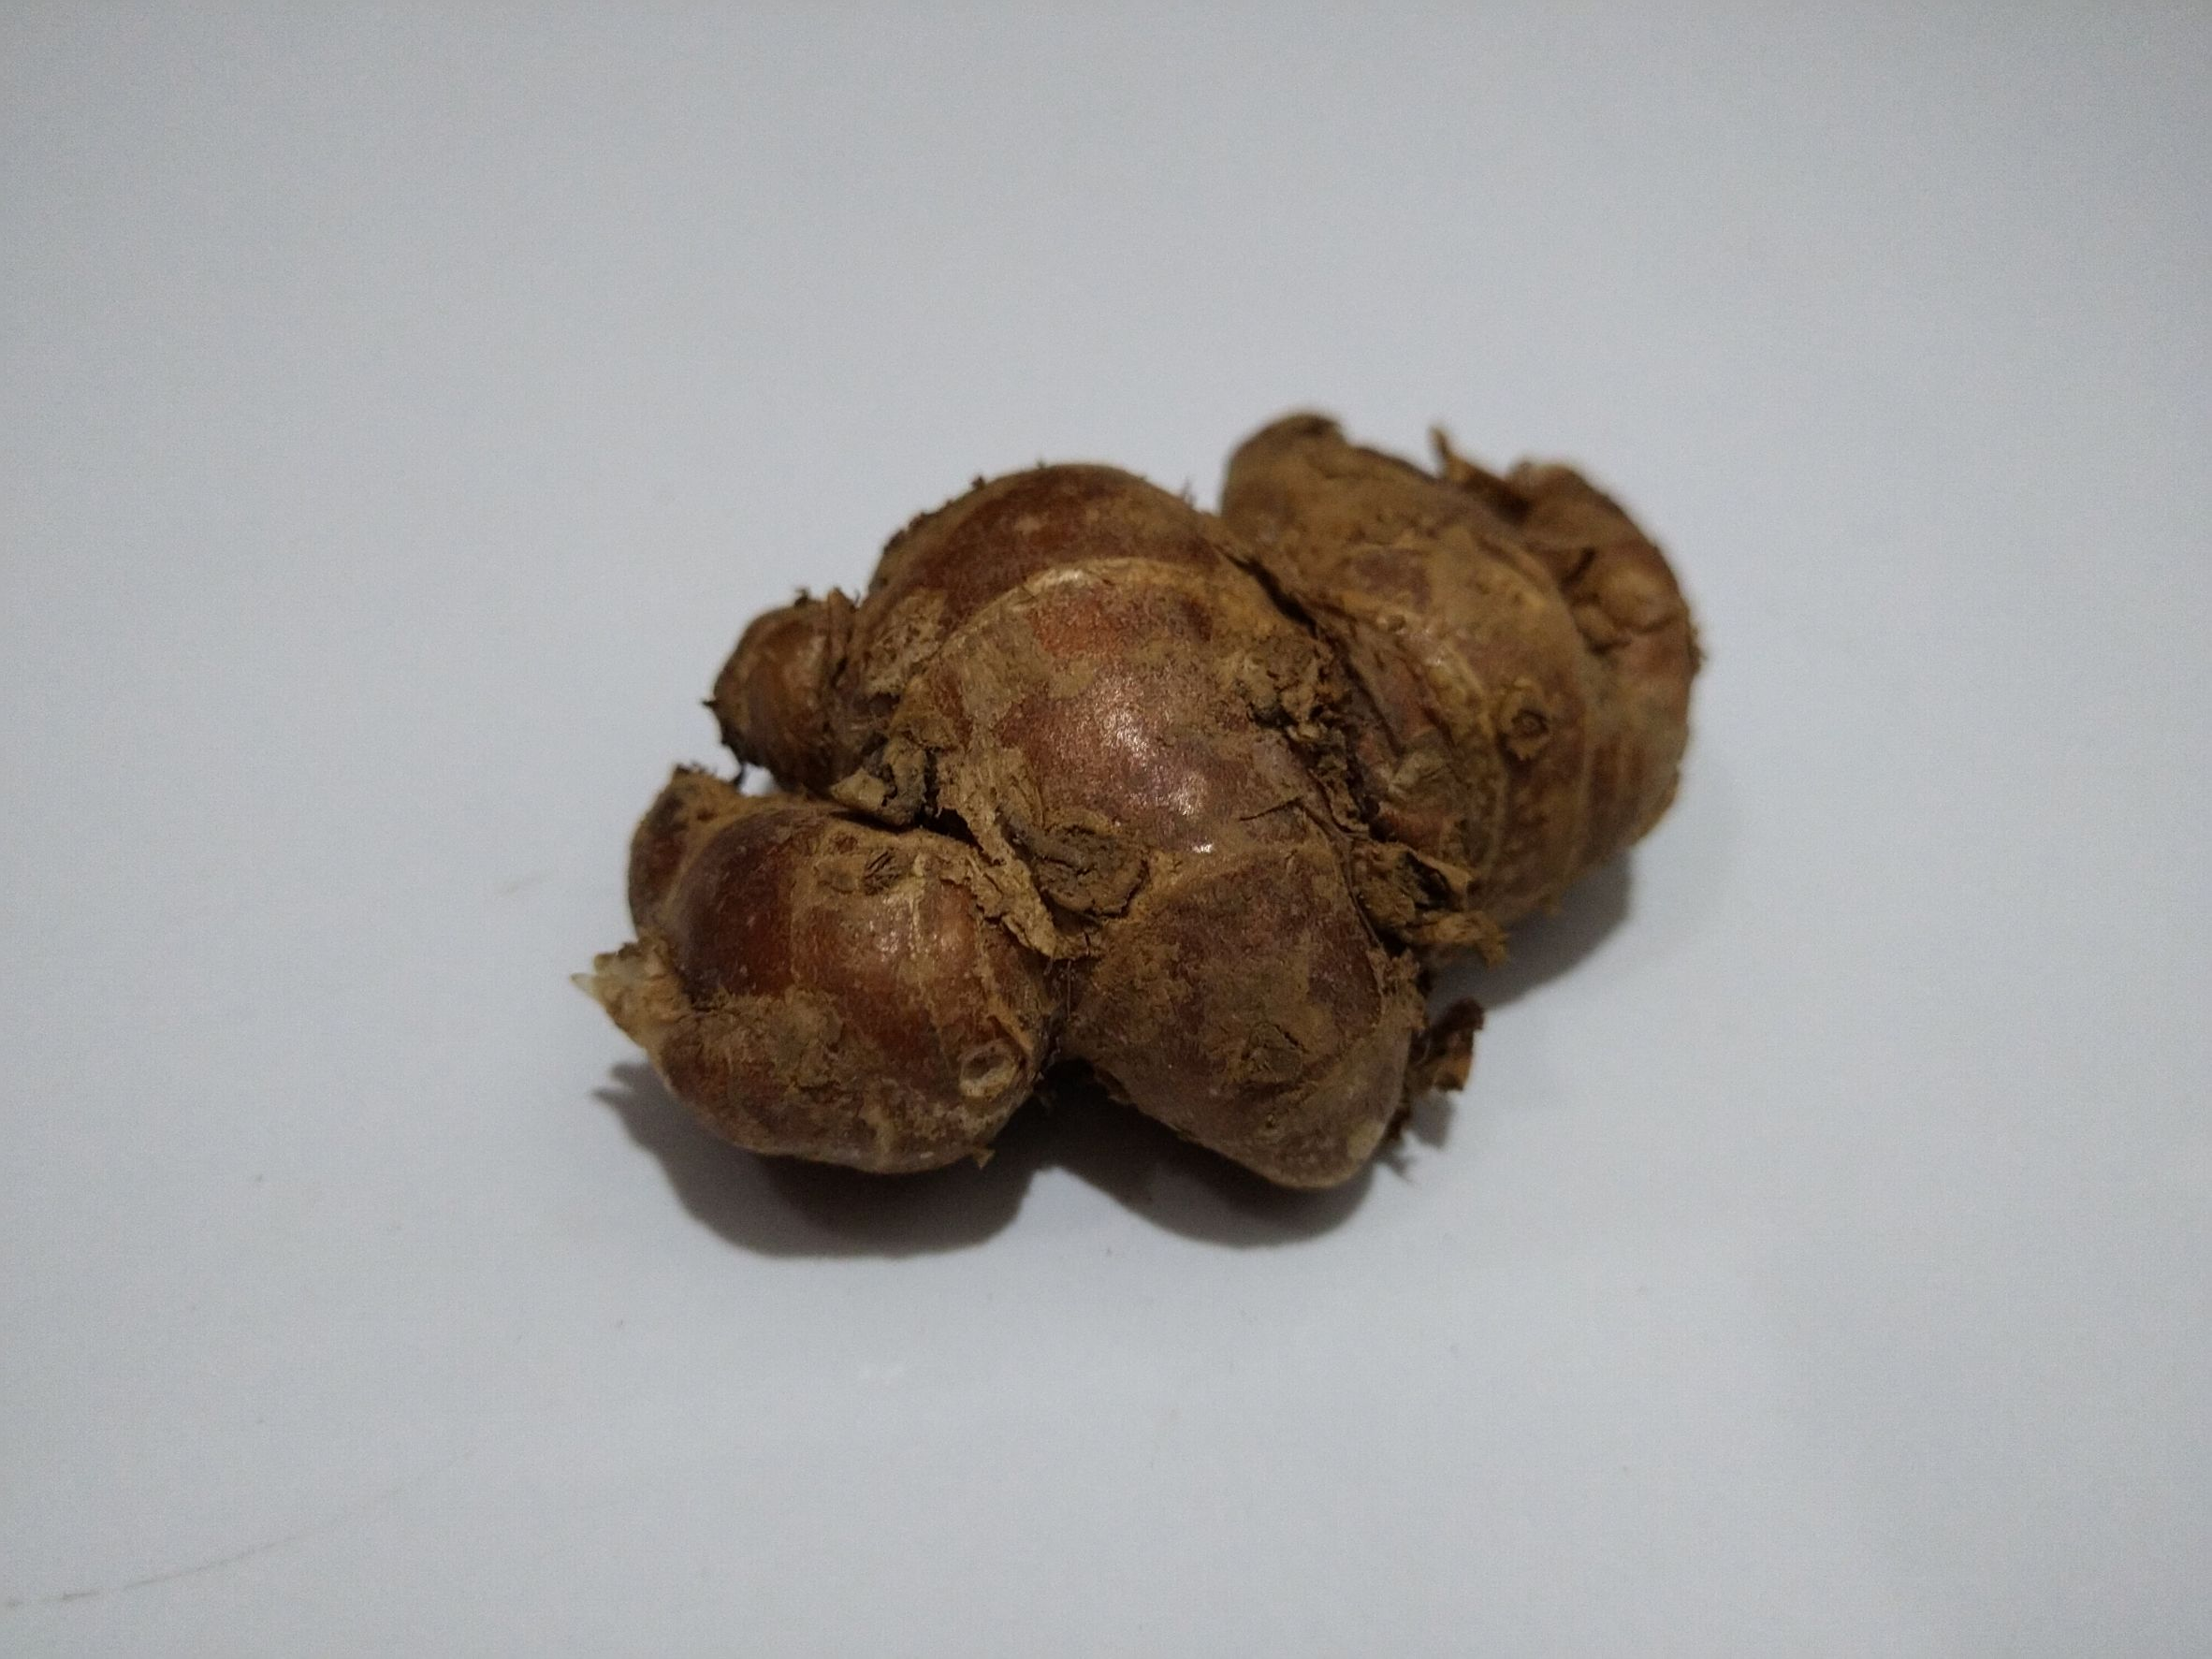Kencur: (613, 413, 1719, 1244)
